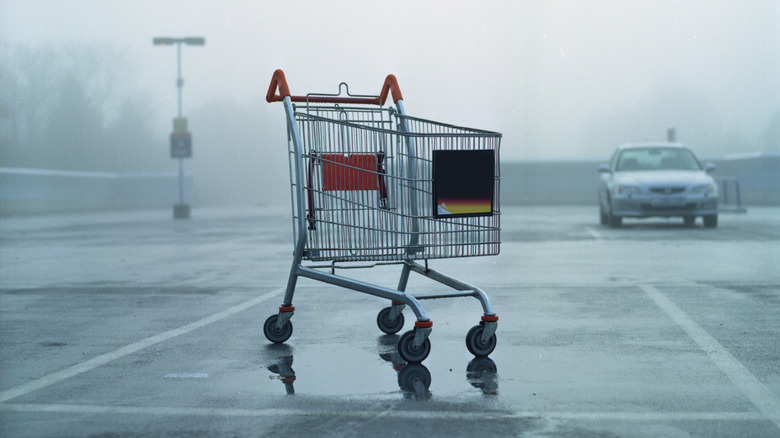Car: (593, 139, 729, 235)
shopping_cart: (255, 67, 517, 380)
